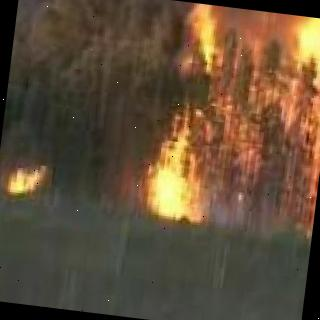fire: (118, 100, 220, 229), (170, 1, 236, 84), (0, 159, 54, 207), (278, 14, 320, 71)
